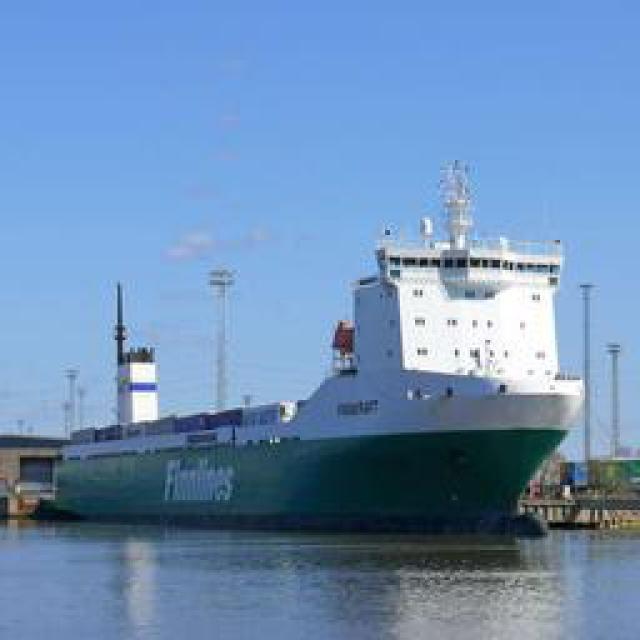Ship: (56, 187, 581, 527)
